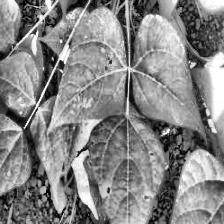ALS: (49, 8, 128, 134), (84, 114, 164, 224)
